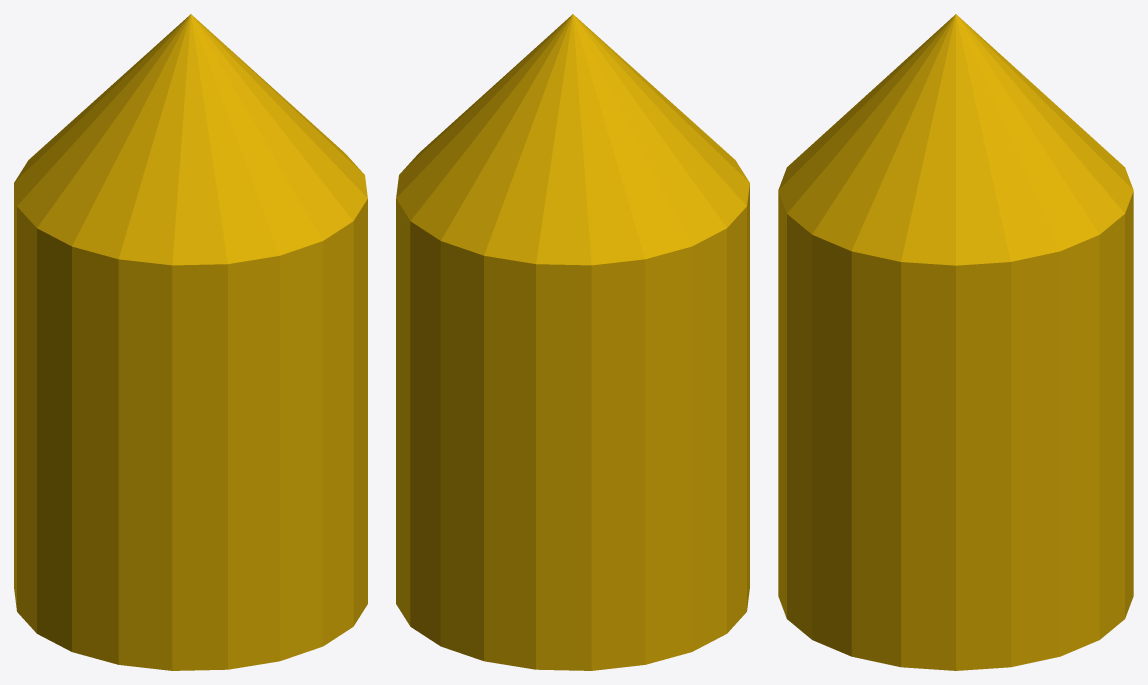
The model's file is Tower.fbx.
3 views of the same model, side by side, from view 1: azimuth 30°, elevation 25°; view 2: azimuth 150°, elevation 25°; view 3: azimuth 270°, elevation 25° (orthographic).
Parts seen in each view (by area): view 1: pCylinder1; view 2: pCylinder1; view 3: pCylinder1.
Boxes of the visible parts, x1,y1,x2,y2 form: pCylinder1: [14, 14, 367, 670]; pCylinder1: [396, 14, 749, 670]; pCylinder1: [778, 14, 1133, 670].
Size of the model in its own units: 2 by 3.61 by 2.
